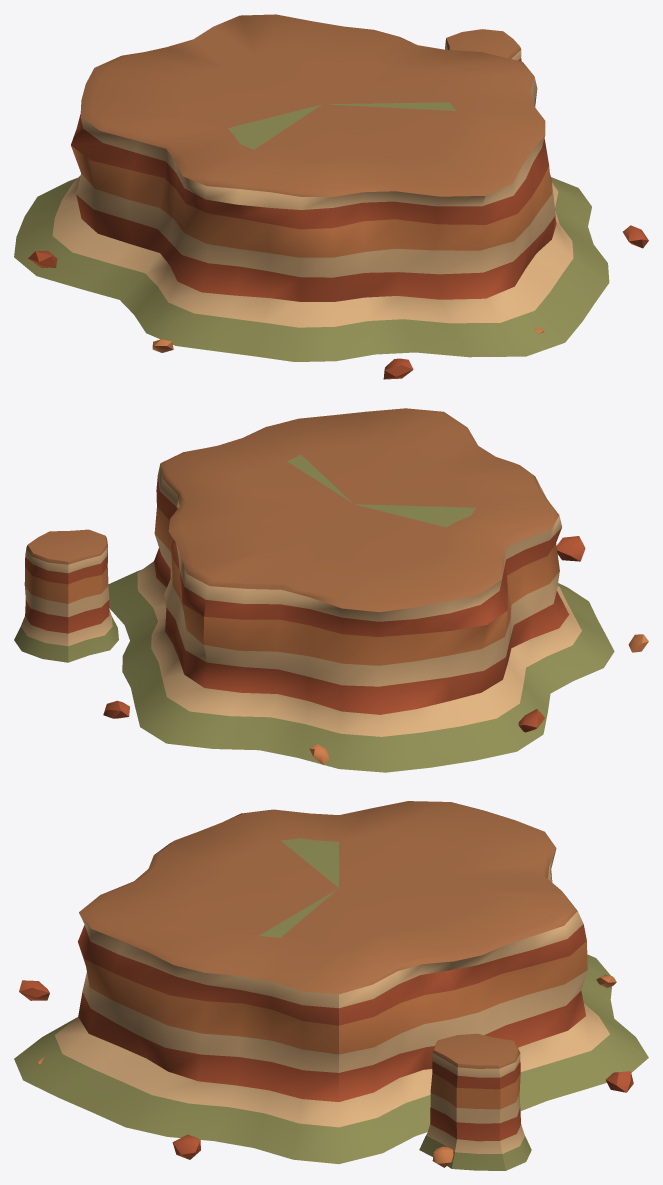
The model's file is mesa.glb.
3 renders of one model, top to bottom at view 1: azimuth 30°, elevation 25°; view 2: azimuth 150°, elevation 25°; view 3: azimuth 270°, elevation 25°, orthographic. The views are drawn at different scales.
Parts seen in each view (by area): view 1: body; view 2: body; view 3: body.
Part boxes in pixels (box(x1,y1,x2,y2)): body: box(14, 14, 648, 379); body: box(14, 408, 648, 772); body: box(14, 801, 648, 1170).
Bounding box in the file's own units: 130 × 35.6 × 138.
